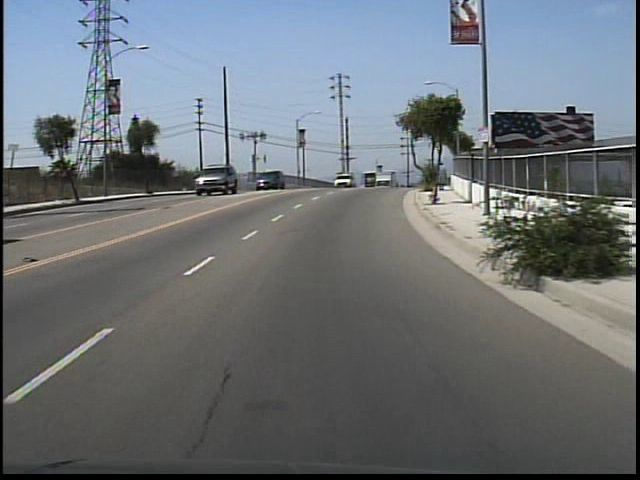person: (439, 161, 449, 193)
